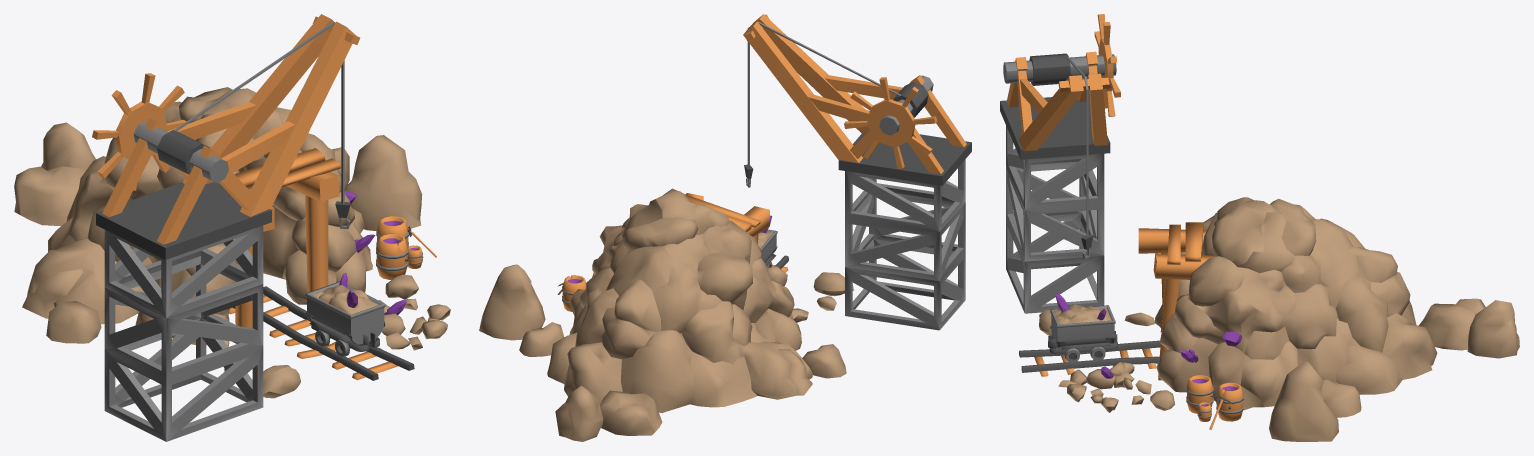
The model's file is cave.fbx.
The picture shows the model from 3 angles, left to right: view 1: azimuth 30°, elevation 25°; view 2: azimuth 150°, elevation 25°; view 3: azimuth 270°, elevation 25°; orthographic projection. The views are drawn at different scales.
Visible parts, largest first — view 1: cave_crane, cave_entrance, cave_env, cave_shaft, barrel, crystals; view 2: cave_entrance, cave_crane, cave_env, cave_shaft, barrel; view 3: cave_entrance, cave_crane, cave_env, cave_shaft, barrel, crystals.
Part boxes in pixels (bbox=[...]): cave_crane: bbox=[92, 14, 360, 441]; cave_entrance: bbox=[14, 87, 450, 398]; cave_env: bbox=[218, 148, 414, 380]; cave_shaft: bbox=[305, 272, 385, 356]; barrel: bbox=[376, 216, 423, 279]; crystals: bbox=[344, 190, 406, 314]; cave_entrance: bbox=[479, 188, 853, 441]; cave_crane: bbox=[743, 14, 971, 330]; cave_env: bbox=[685, 193, 788, 272]; cave_shaft: bbox=[758, 215, 777, 267]; barrel: bbox=[562, 272, 595, 311]; cave_entrance: bbox=[1039, 197, 1519, 441]; cave_crane: bbox=[1000, 14, 1120, 313]; cave_env: bbox=[1019, 222, 1215, 380]; cave_shaft: bbox=[1048, 293, 1117, 362]; barrel: bbox=[1186, 375, 1243, 421]; crystals: bbox=[1101, 331, 1241, 378].
Size of the model in its own units: 1202 by 892 by 1446.
5 materials, 5 textured.
